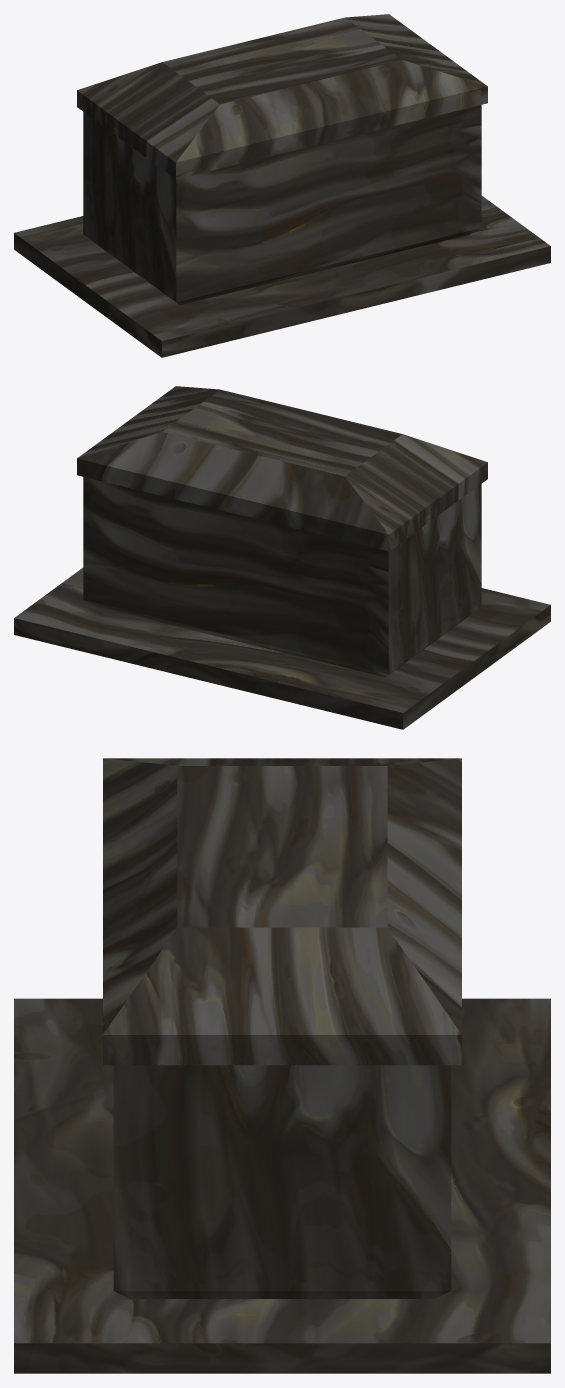
File: StoneCoffin.fbx
The picture shows the model from 3 angles, top to bottom: view 1: azimuth 30°, elevation 25°; view 2: azimuth 150°, elevation 25°; view 3: azimuth 270°, elevation 25°; orthographic projection. The views are drawn at different scales.
Parts seen in each view (by area): view 1: StoneCoffinBase, StoneCoffineLid; view 2: StoneCoffinBase, StoneCoffineLid; view 3: StoneCoffinBase, StoneCoffineLid.
Part boxes in pixels (box(x1,y1,x2,y2)): StoneCoffinBase: box(14, 105, 550, 357); StoneCoffineLid: box(77, 14, 487, 179); StoneCoffinBase: box(14, 477, 550, 729); StoneCoffineLid: box(77, 386, 487, 551); StoneCoffinBase: box(14, 998, 550, 1373); StoneCoffineLid: box(103, 758, 461, 1065).
Size of the model in its own units: 2.55 by 1.22 by 1.68.
Materials: 1 (1 with a texture image).
